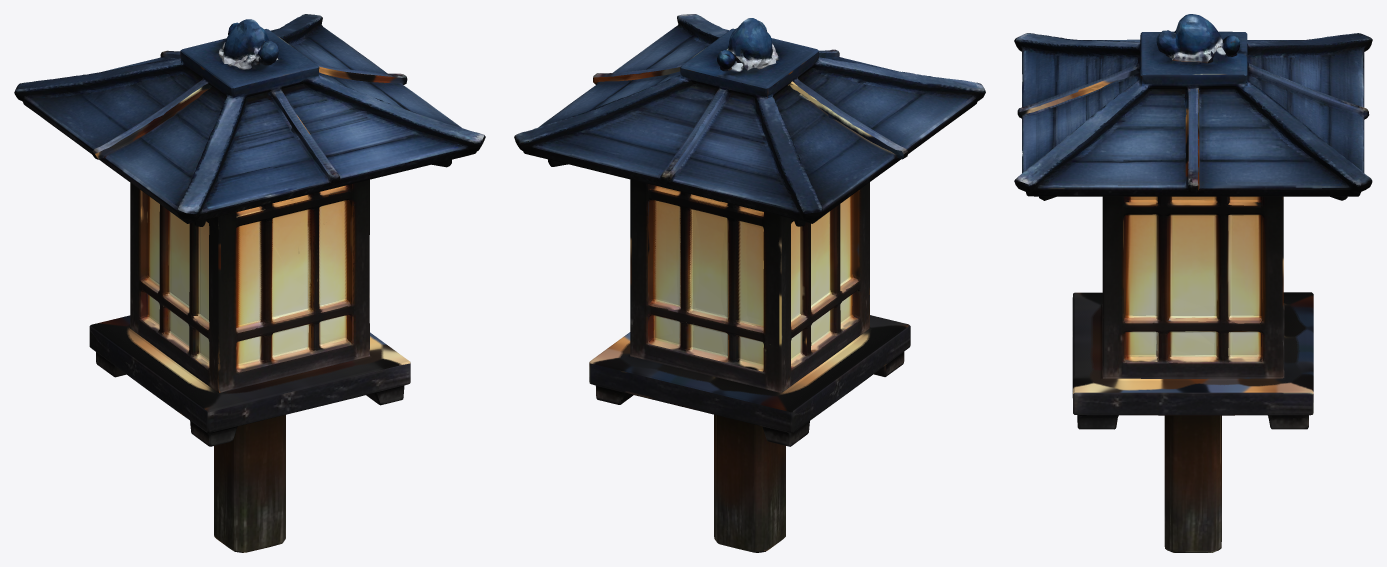
File: traveler_env_coast_kudo_river_lantern_00001_.glb
The picture shows the model from 3 angles, left to right: view 1: azimuth 30°, elevation 25°; view 2: azimuth 150°, elevation 25°; view 3: azimuth 270°, elevation 25°; orthographic projection.
Parts seen in each view (by area): view 1: temp_mesh.ply; view 2: temp_mesh.ply; view 3: temp_mesh.ply.
Part boxes in pixels (x1,y1,x2,y2): temp_mesh.ply: (14,14,485,552); temp_mesh.ply: (514,14,985,552); temp_mesh.ply: (1014,14,1372,552).
Bounding box in the file's own units: 1.24 × 1.97 × 1.22.
1 material, 1 textured.
